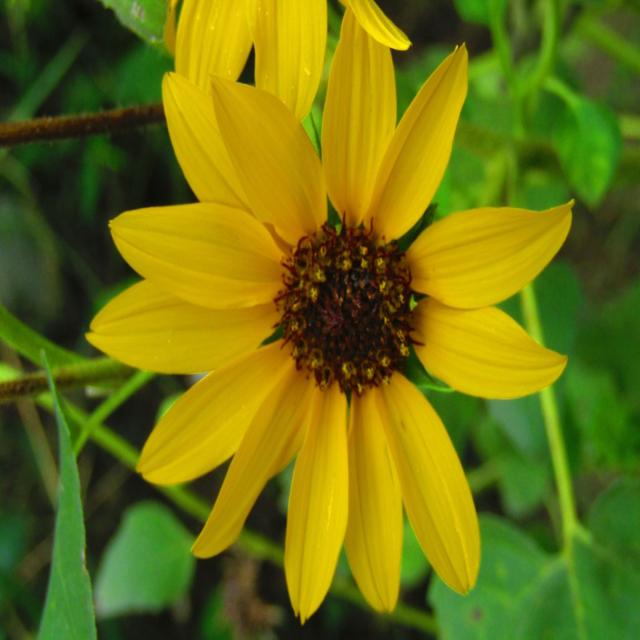sunflower: (93, 29, 588, 630)
